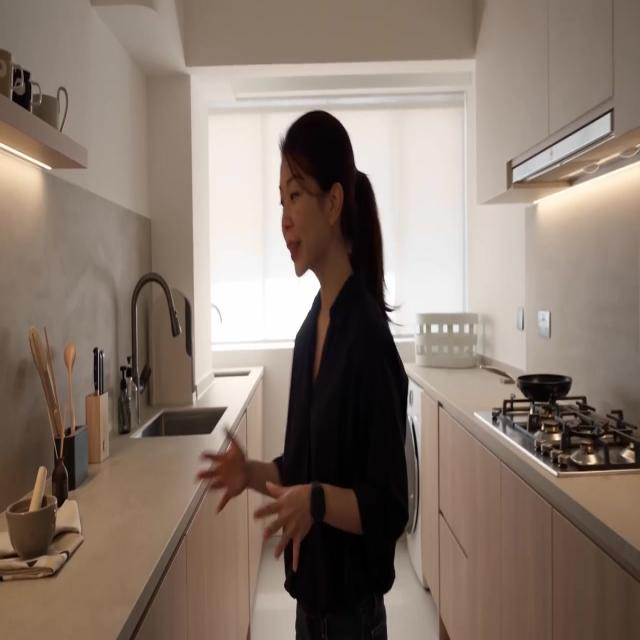obstacle: (0, 365, 263, 639)
person: (195, 109, 409, 639)
